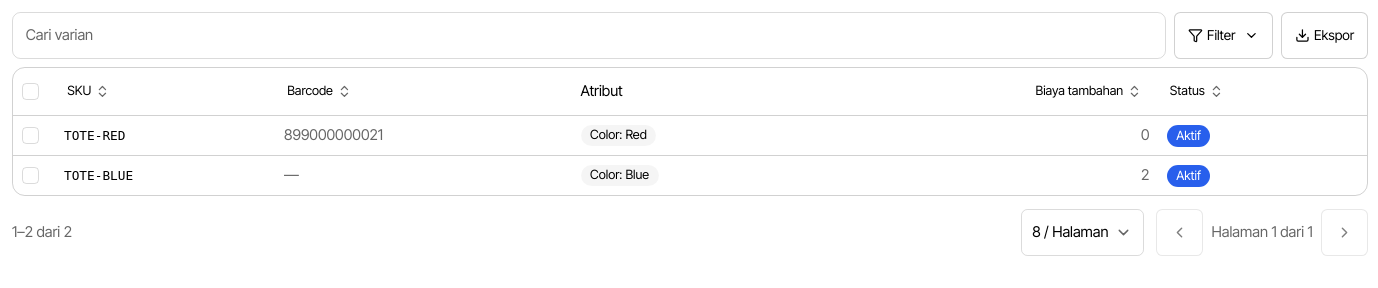
Test: ItemVariants › filters variants through the search box
The width and height of the screenshot is (1378, 288).
Type "BLUE" into the search field with placeholder "Cari varian" at (589, 35), box [12,12,1166,59]
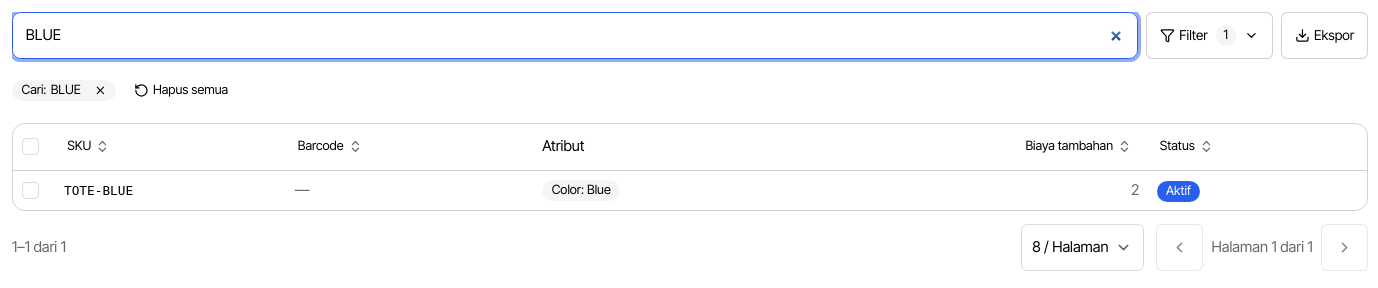
Expected: the text "TOTE-BLUE" is shown, [64,183,133,198]
Now the text "TOTE-RED" is gone
